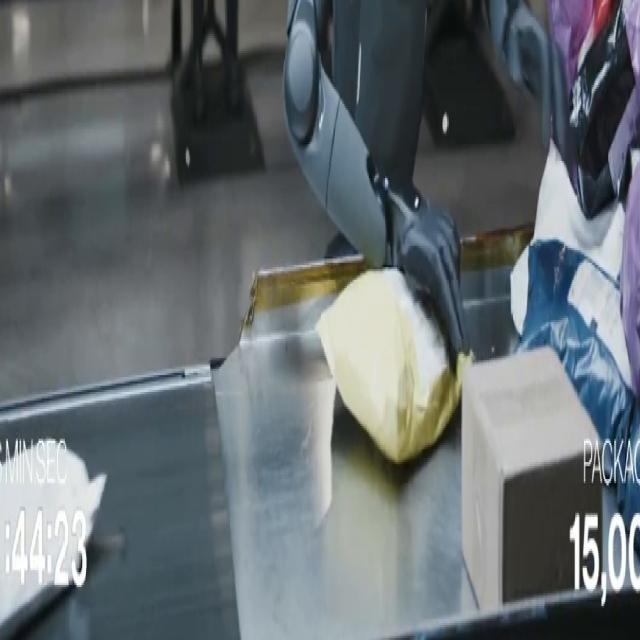package: (462, 348, 602, 610), (317, 270, 471, 464), (518, 242, 633, 474), (0, 439, 105, 638), (570, 0, 639, 218), (533, 142, 624, 281), (548, 0, 597, 86), (621, 172, 639, 396), (578, 0, 619, 67), (619, 405, 639, 536)
